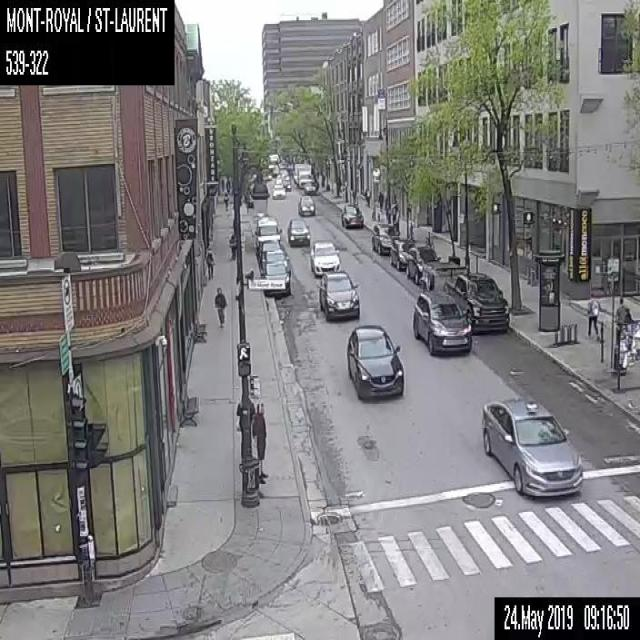pedestrian: (251, 400, 269, 484), (614, 296, 631, 341), (586, 289, 599, 339), (213, 285, 226, 327), (228, 232, 236, 260), (392, 205, 399, 236), (206, 248, 213, 279), (390, 198, 397, 221), (377, 189, 383, 211), (364, 185, 370, 206), (223, 192, 228, 209), (225, 177, 230, 193)
vehicle: (479, 395, 583, 500), (420, 260, 510, 336), (346, 322, 403, 398), (412, 288, 471, 354), (316, 270, 359, 319), (405, 245, 440, 282), (310, 240, 339, 275), (370, 222, 400, 254), (254, 215, 282, 249), (263, 263, 290, 295), (260, 239, 288, 267), (390, 238, 415, 269), (263, 249, 290, 275), (339, 201, 364, 228), (287, 218, 309, 245), (292, 162, 314, 186), (297, 194, 315, 215), (268, 153, 279, 175), (276, 176, 290, 190), (272, 183, 285, 198), (303, 181, 316, 193), (276, 168, 289, 180), (261, 168, 271, 180), (279, 158, 287, 168)
